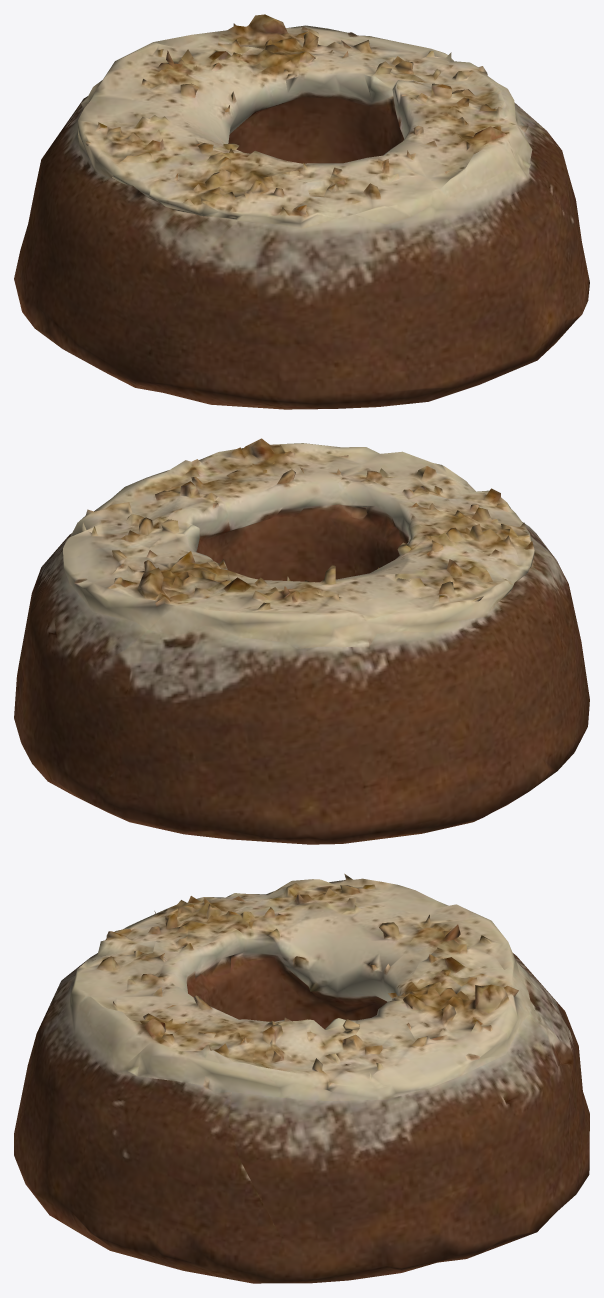
Rendered from carrot_cake.glb.
The picture shows the model from 3 angles, top to bottom: view 1: azimuth 30°, elevation 25°; view 2: azimuth 150°, elevation 25°; view 3: azimuth 270°, elevation 25°; orthographic projection. The views are drawn at different scales.
Visible parts, largest first — view 1: carrot_cake; view 2: carrot_cake; view 3: carrot_cake.
Boxes of the visible parts, x1=… form: carrot_cake: x1=14, y1=14, x2=589, y2=409; carrot_cake: x1=14, y1=438, x2=589, y2=844; carrot_cake: x1=14, y1=873, x2=589, y2=1283.
Bounding box in the file's own units: 0.2254 × 0.0976 × 0.2247.
1 material, 1 textured.
